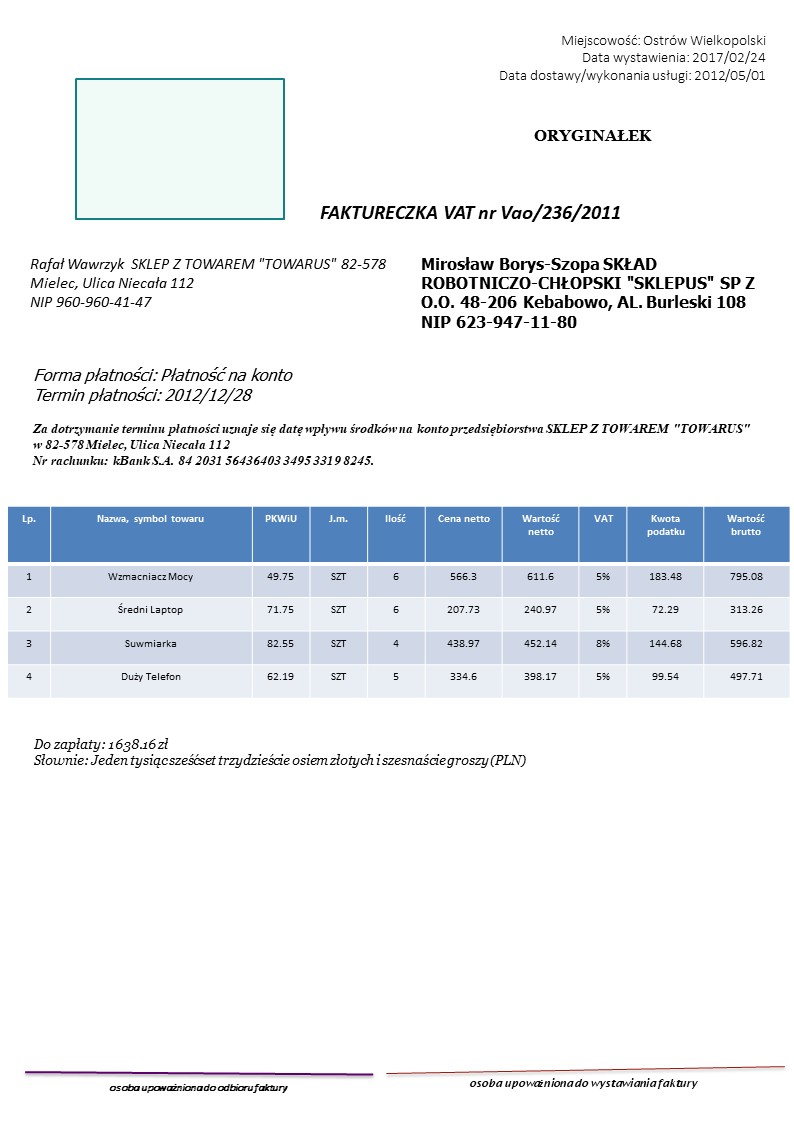Table: (6, 504, 790, 700)
TextBox: (28, 418, 752, 469), (419, 254, 758, 332), (25, 253, 390, 312), (28, 734, 528, 771), (496, 29, 768, 86), (31, 362, 294, 406), (316, 200, 624, 223), (468, 1076, 700, 1093), (107, 1078, 290, 1097), (531, 124, 652, 145)
